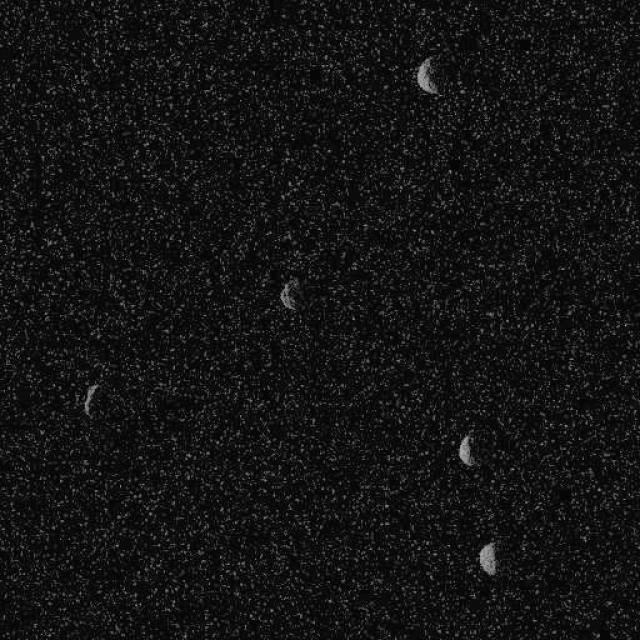D2: (415, 54, 443, 96), (279, 275, 301, 311), (477, 540, 498, 576), (456, 432, 475, 467), (81, 382, 100, 416)
